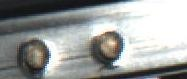joints: (86, 25, 126, 65), (17, 35, 53, 75)
